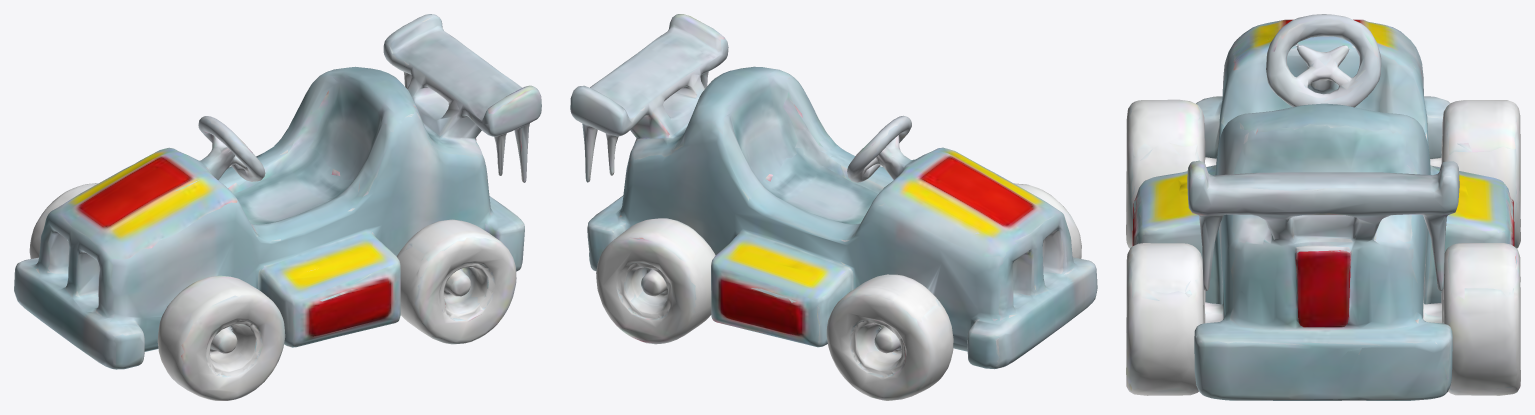
File: ice-block-diet-384.glb
3 renders of one model, left to right at view 1: azimuth 30°, elevation 25°; view 2: azimuth 150°, elevation 25°; view 3: azimuth 270°, elevation 25°, orthographic. The views are drawn at different scales.
Parts seen in each view (by area): view 1: Mesh_0; view 2: Mesh_0; view 3: Mesh_0.
Boxes of the visible parts, x1,y1,x2,y2 form: Mesh_0: (14,14,541,400); Mesh_0: (570,14,1097,400); Mesh_0: (1126,14,1520,400).
Bounding box in the file's own units: 1.9 × 0.9146 × 1.19.
1 material, 1 textured.
